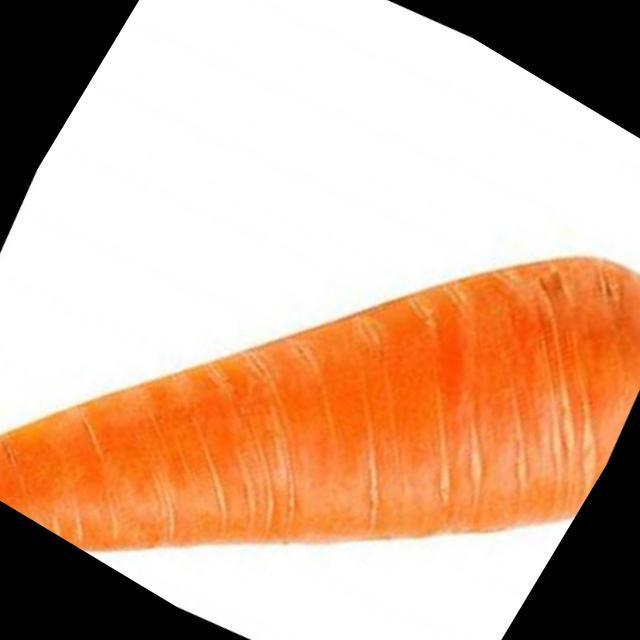Carrot: (0, 259, 640, 549)
